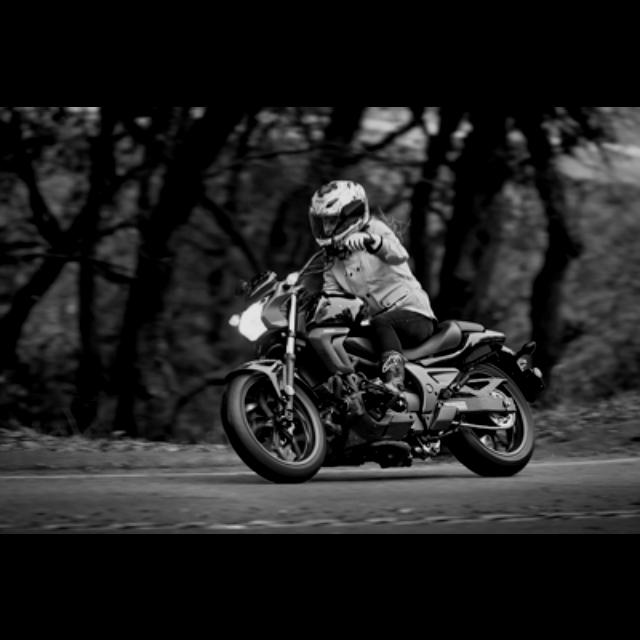With Helmet: (306, 178, 370, 246)
